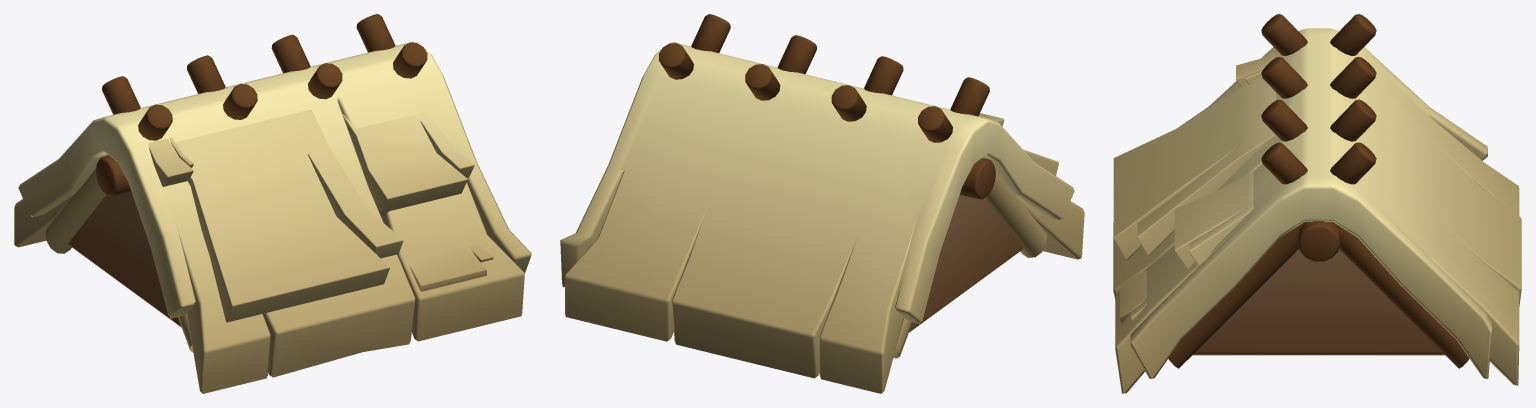
File: SM_Clay_Roof_04.fbx
The picture shows the model from 3 angles, left to right: view 1: azimuth 30°, elevation 25°; view 2: azimuth 150°, elevation 25°; view 3: azimuth 270°, elevation 25°; orthographic projection. The views are drawn at different scales.
Parts seen in each view (by area): view 1: SM_Clay_Roof_04; view 2: SM_Clay_Roof_04; view 3: SM_Clay_Roof_04.
Boxes of the visible parts, box(x1,y1,x2,y2) form: SM_Clay_Roof_04: box(14, 14, 531, 393); SM_Clay_Roof_04: box(560, 14, 1084, 393); SM_Clay_Roof_04: box(1113, 14, 1521, 393).
Bounding box in the file's own units: 1.01 × 0.6403 × 1.01.
